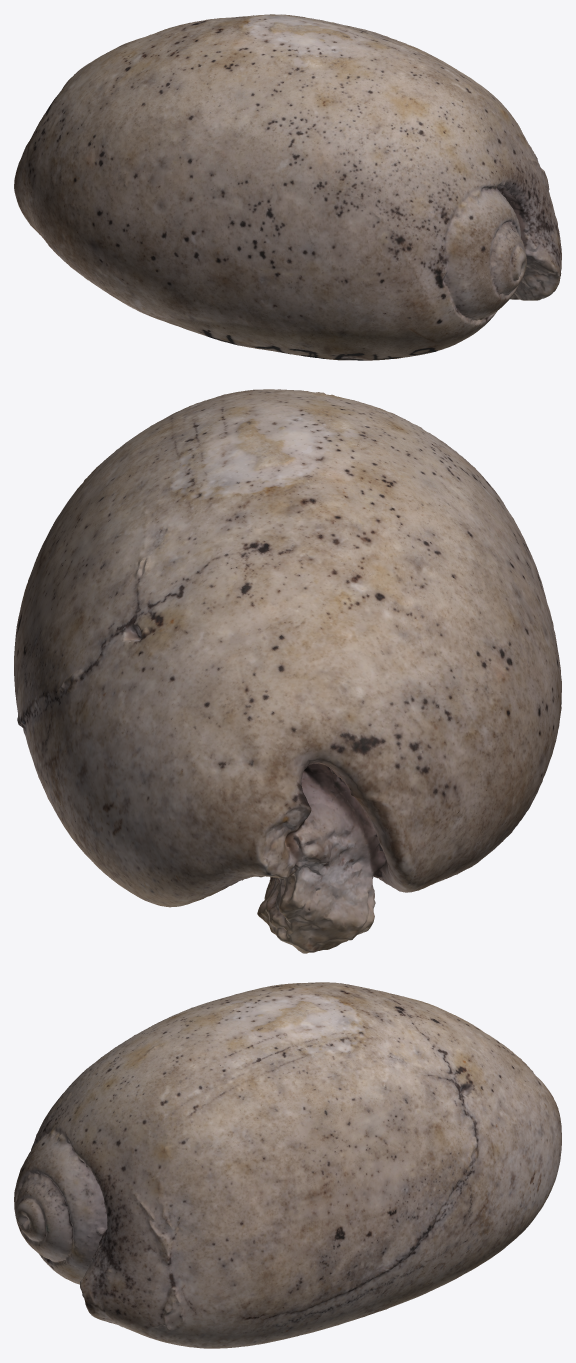
File: EWS0016367.glb
3 views of the same model, one above another, from view 1: azimuth 30°, elevation 25°; view 2: azimuth 150°, elevation 25°; view 3: azimuth 270°, elevation 25° (orthographic). The views are drawn at different scales.
Parts seen in each view (by area): view 1: input; view 2: input; view 3: input.
Part boxes in pixels (x1,y1,x2,y2): input: (14,14,561,360); input: (14,389,561,953); input: (14,982,561,1348).
Size of the model in its own units: 0.0324 by 0.021 by 0.0381.
Materials: 1 (1 with a texture image).
